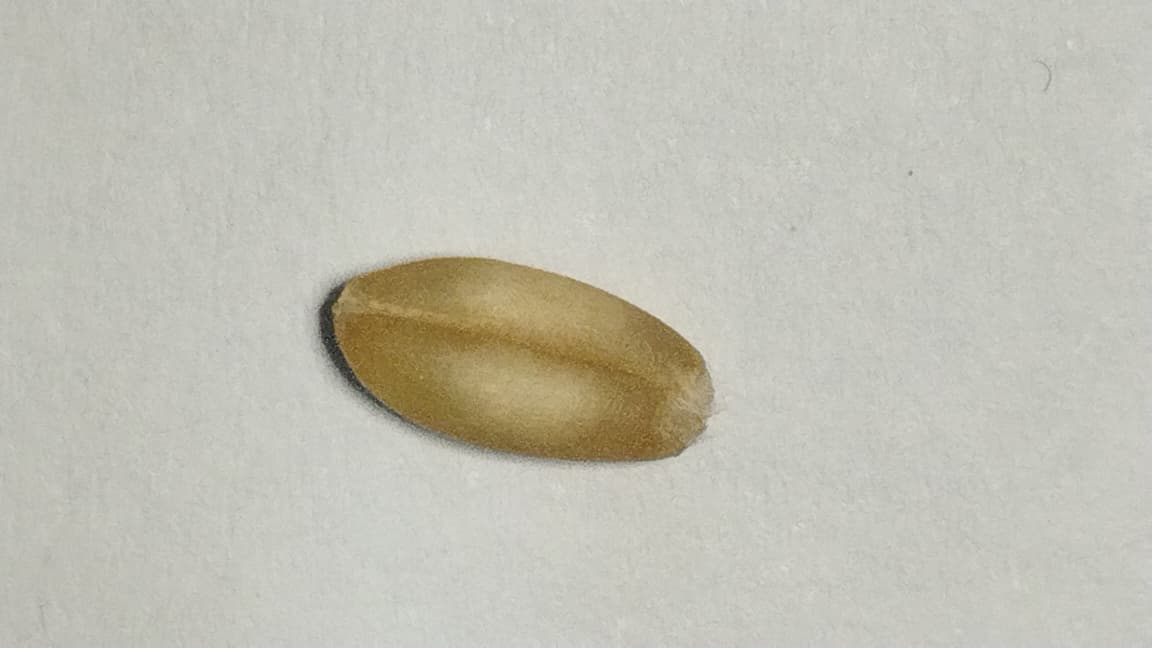healthy: (332, 258, 710, 459)
